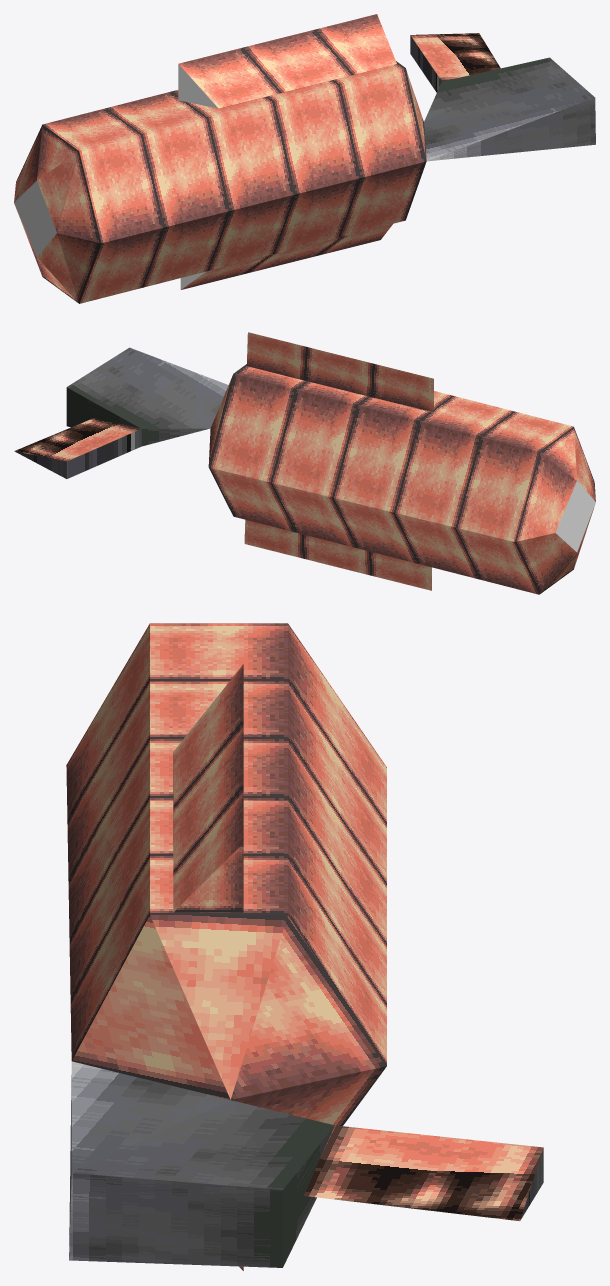
The model's file is 0a-cyclone-tp.glb.
3 renders of one model, top to bottom at view 1: azimuth 30°, elevation 25°; view 2: azimuth 150°, elevation 25°; view 3: azimuth 270°, elevation 25°, orthographic. The views are drawn at different scales.
Visible parts, largest first — view 1: gun; view 2: gun; view 3: gun.
Part boxes in pixels (x1,y1,x2,y2): gun: [14, 14, 595, 303]; gun: [14, 332, 595, 594]; gun: [66, 623, 543, 1270].
Size of the model in its own units: 528 by 218 by 220.
5 materials, 5 textured.
